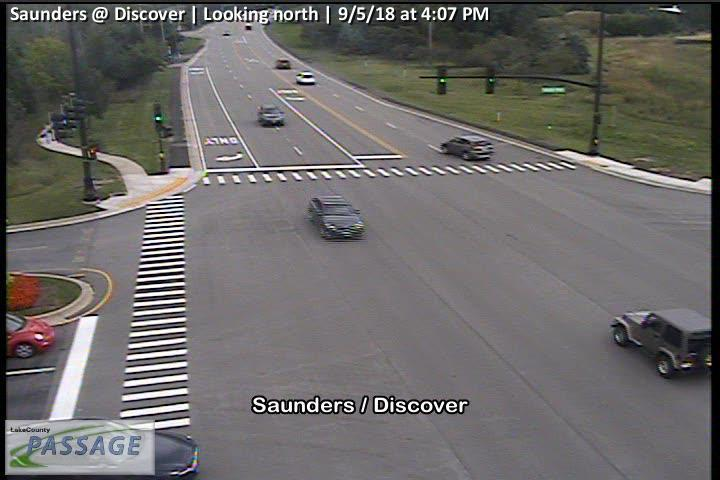SUV: (614, 308, 711, 379), (440, 134, 494, 160), (258, 103, 285, 127), (296, 71, 314, 84), (276, 57, 290, 69)
Sedan: (310, 195, 366, 240)
